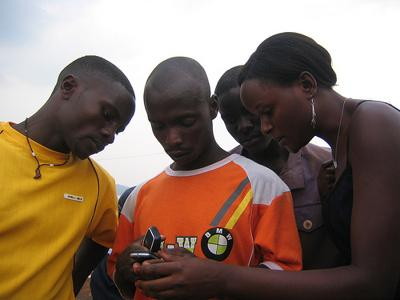person: (108, 57, 304, 300)
